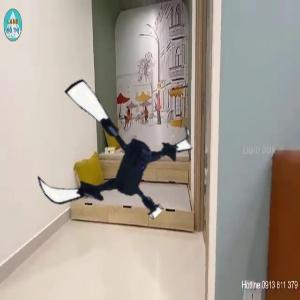drone: (33, 77, 189, 233)
